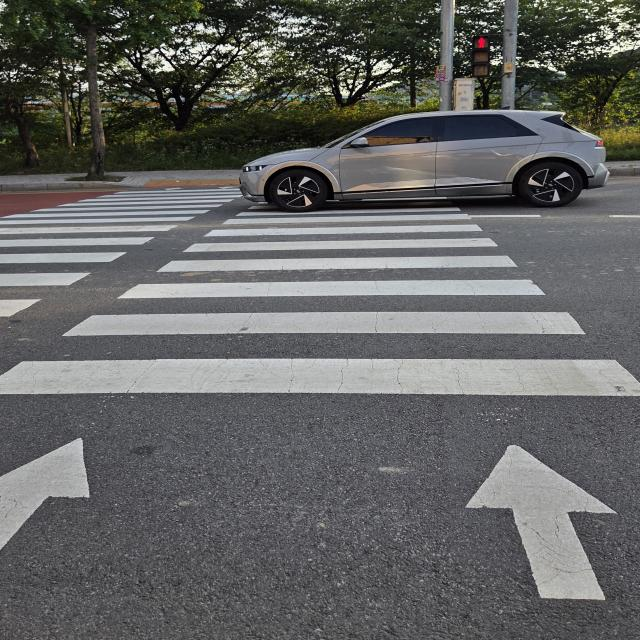car: (236, 109, 600, 213)
